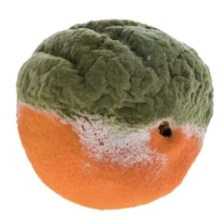orange: (34, 29, 201, 224)
